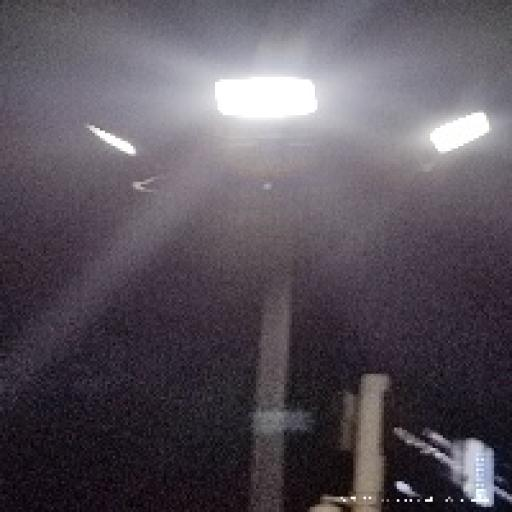Working: (202, 64, 332, 130), (393, 102, 502, 176), (79, 117, 147, 166)
